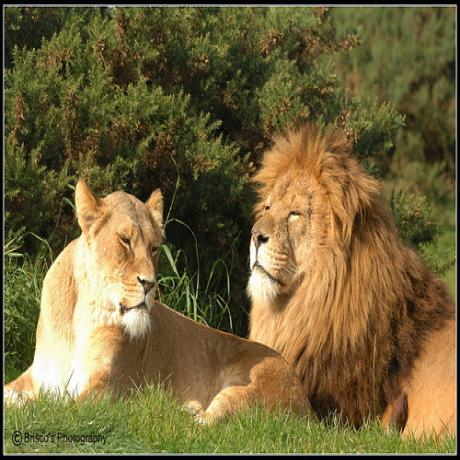Lion: (6, 176, 315, 426), (248, 128, 455, 433)
